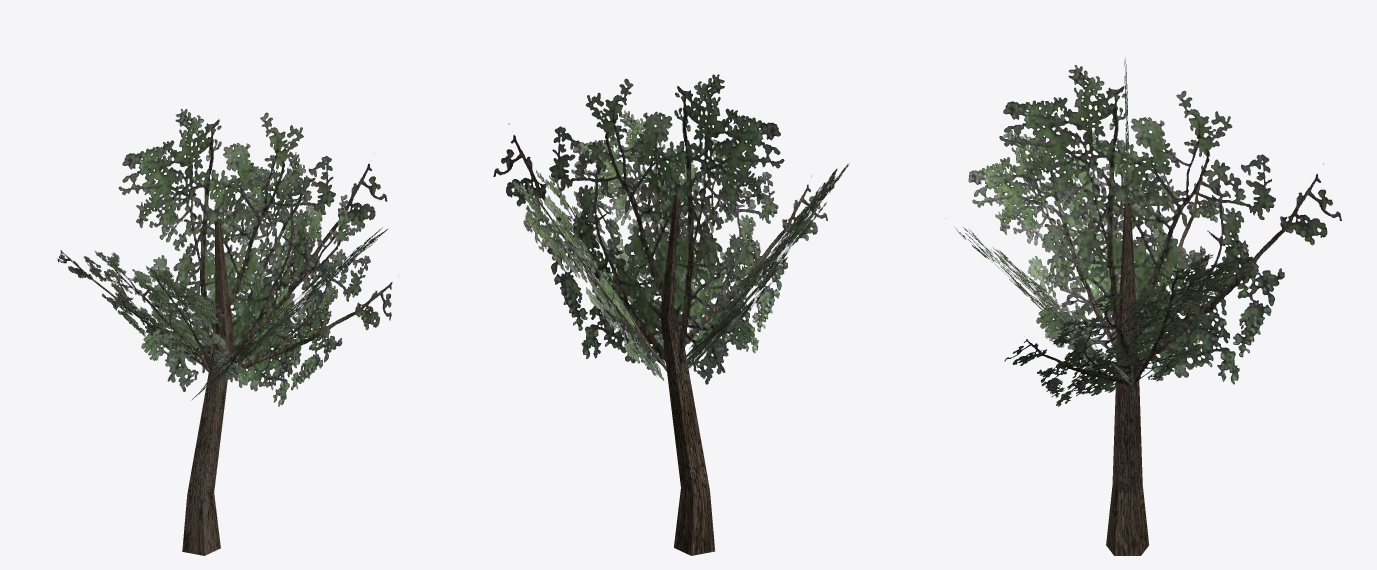
File: mtns_shrb_greenleaf_l0.fbx
3 views of the same model, side by side, from view 1: azimuth 30°, elevation 25°; view 2: azimuth 150°, elevation 25°; view 3: azimuth 270°, elevation 25° (orthographic). The views are drawn at different scales.
Visible parts, largest first — view 1: mesh_node; view 2: mesh_node; view 3: mesh_node.
Part boxes in pixels (<box>): mesh_node: <box>57,109,398,555</box>; mesh_node: <box>493,74,849,555</box>; mesh_node: <box>945,58,1341,555</box>.
Bounding box in the file's own units: 1.6 × 1.95 × 1.69.
